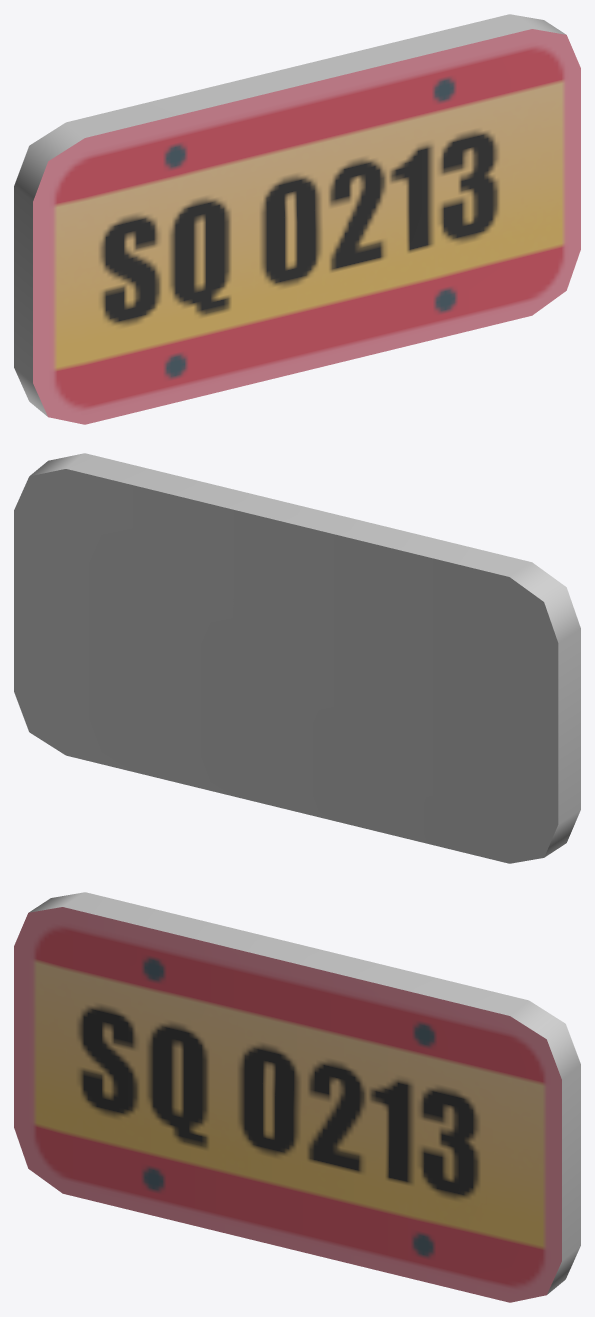
The model's file is Car_Number_07.fbx.
3 renders of one model, top to bottom at view 1: azimuth 30°, elevation 25°; view 2: azimuth 150°, elevation 25°; view 3: azimuth 330°, elevation 25°, orthographic.
Parts seen in each view (by area): view 1: Car_Number_07; view 2: Car_Number_07; view 3: Car_Number_07.
Part boxes in pixels (box(x1,y1,x2,y2)): Car_Number_07: box(14, 14, 580, 424); Car_Number_07: box(14, 453, 580, 863); Car_Number_07: box(14, 892, 580, 1302).
Size of the model in its own units: 49.09 by 3.48 by 24.55.
